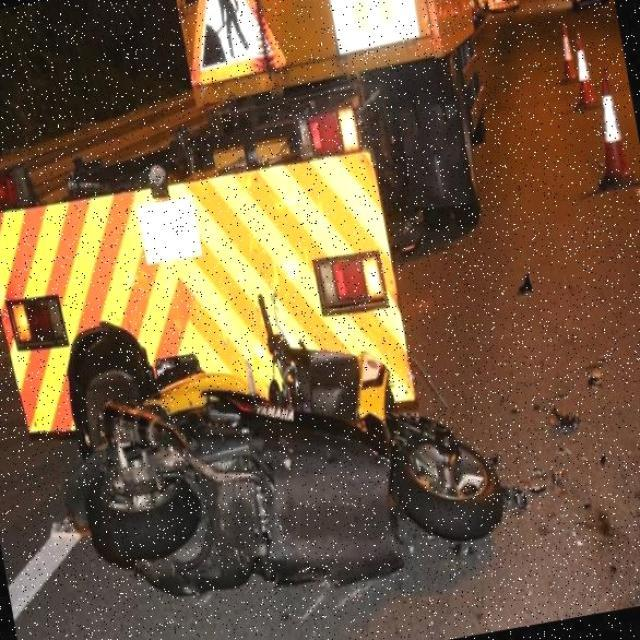accident: (35, 224, 547, 640)
